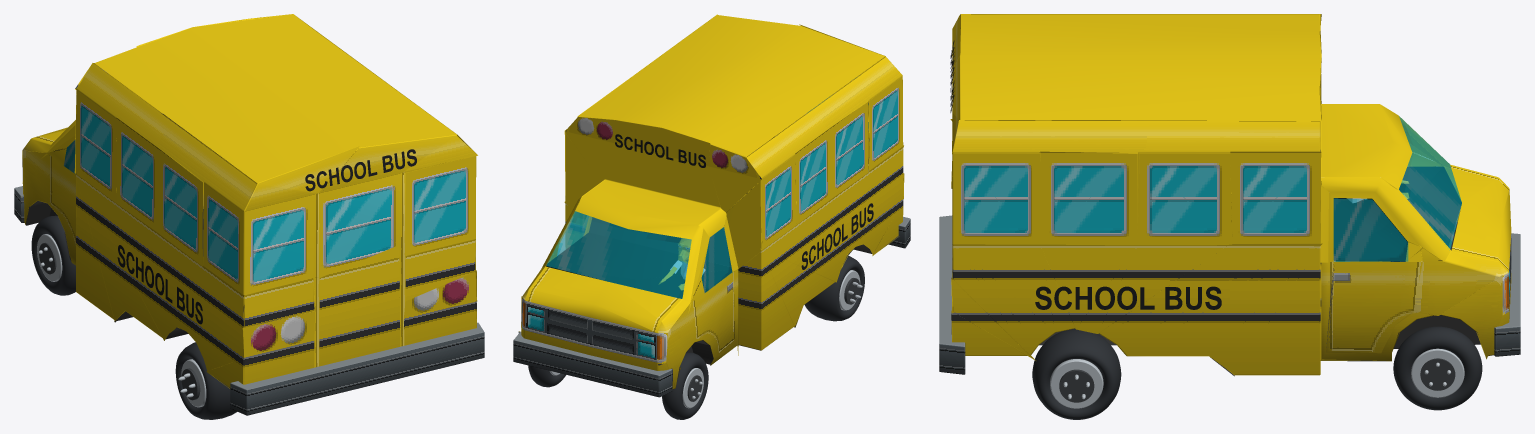
The model's file is car-schoolbu.glb.
3 views of the same model, side by side, from view 1: azimuth 30°, elevation 25°; view 2: azimuth 150°, elevation 25°; view 3: azimuth 270°, elevation 25° (orthographic). The views are drawn at different scales.
Visible parts, largest first — view 1: schoolbuShape.001, Rounded tire.029, Rounded tire.030, School bus rear, School bus left, Alloy rim.030, Alloy rim.029; view 2: schoolbuShape.001, windShape.001, schoolbuShape, Rounded tire.029, Rounded tire.030, School bus left, School bus front, Rounded tire.031, Alloy rim.030; view 3: schoolbuShape.001, windShape.001, schoolbuShape, Rounded tire.028, Rounded tire.031, School bus right, Alloy rim.028, Alloy rim.031, Rim recess.057, Rim recess.063.
Boxes of the visible parts, x1,y1,x2,y2 form: schoolbuShape.001: [14, 14, 484, 415]; Rounded tire.029: [175, 342, 237, 419]; Rounded tire.030: [31, 215, 75, 295]; School bus rear: [305, 149, 416, 191]; School bus left: [117, 245, 202, 324]; Alloy rim.030: [37, 234, 62, 281]; Alloy rim.029: [181, 359, 206, 407]; schoolbuShape.001: [513, 14, 910, 397]; windShape.001: [546, 211, 732, 298]; schoolbuShape: [546, 233, 731, 298]; Rounded tire.029: [804, 255, 864, 321]; Rounded tire.030: [662, 352, 708, 419]; School bus left: [801, 203, 873, 269]; School bus front: [615, 134, 705, 167]; Rounded tire.031: [528, 365, 565, 387]; Alloy rim.030: [682, 368, 703, 408]; schoolbuShape.001: [939, 14, 1520, 376]; windShape.001: [1333, 116, 1461, 261]; schoolbuShape: [1333, 167, 1461, 260]; Rounded tire.028: [1032, 329, 1121, 419]; Rounded tire.031: [1393, 326, 1482, 410]; School bus right: [1035, 286, 1221, 309]; Alloy rim.028: [1050, 359, 1103, 408]; Alloy rim.031: [1411, 348, 1464, 397]; Rim recess.057: [1059, 369, 1094, 402]; Rim recess.063: [1420, 358, 1455, 390].
Bounding box in the file's own units: 3.1 × 3.41 × 5.73.
7 materials, 3 textured.
